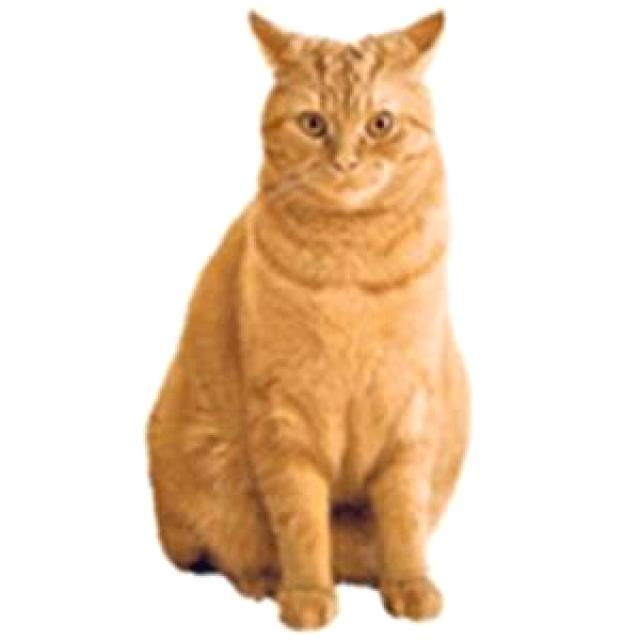KEDI: (152, 7, 464, 620)
